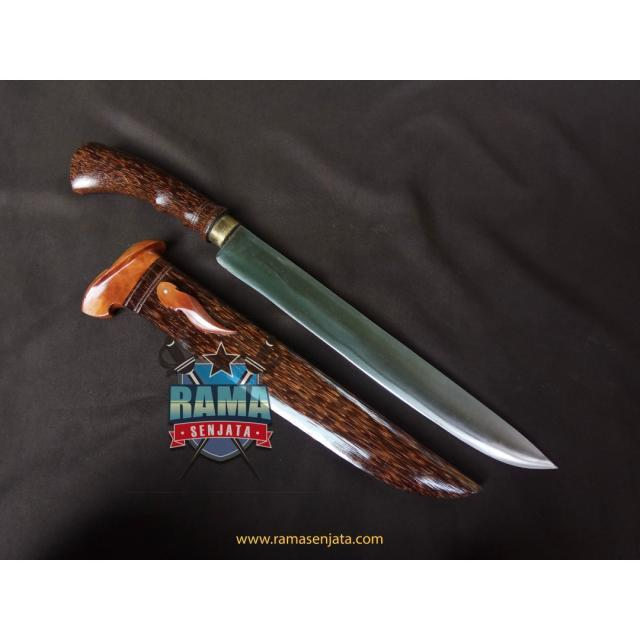Pisau: (58, 122, 577, 481)
